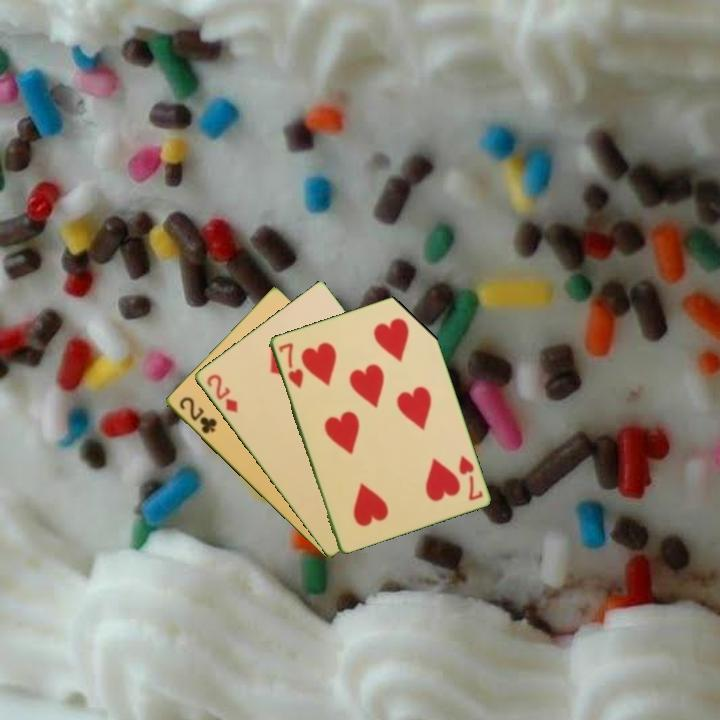2c: (175, 393, 220, 437)
2d: (203, 370, 241, 416)
7h: (275, 339, 306, 391), (455, 452, 485, 503)
